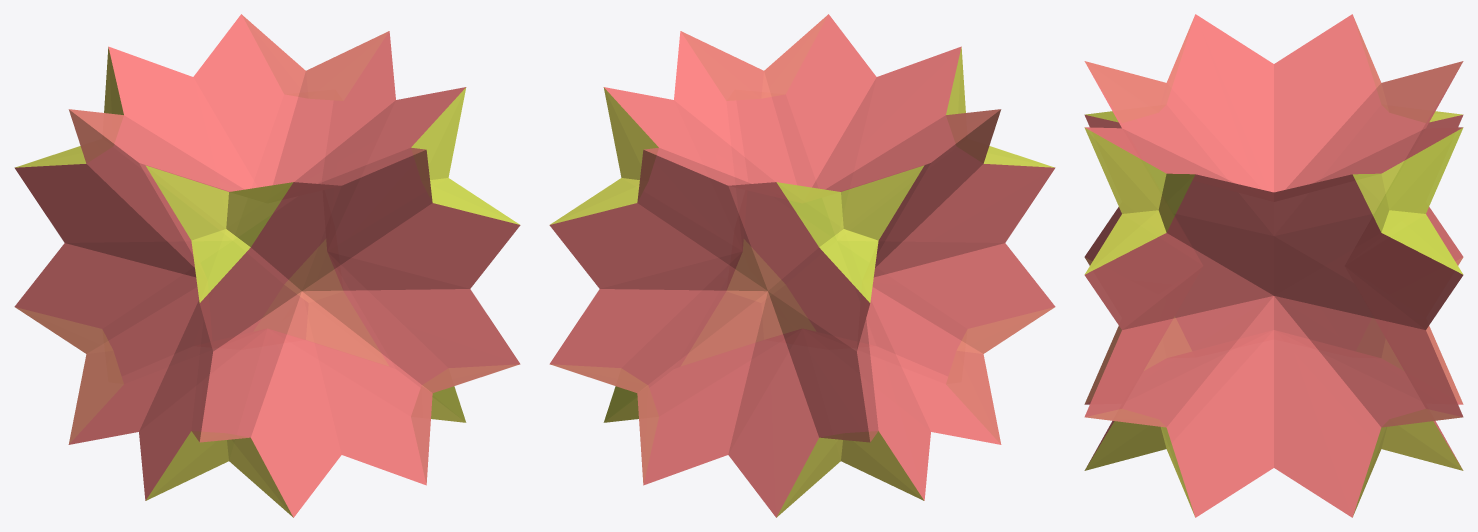
File: Truncated_Cube.obj
3 views of the same model, side by side, from view 1: azimuth 30°, elevation 25°; view 2: azimuth 150°, elevation 25°; view 3: azimuth 270°, elevation 25° (orthographic). The views are drawn at different scales.
Size of the model in its own units: 2.41 by 2.41 by 2.41.
